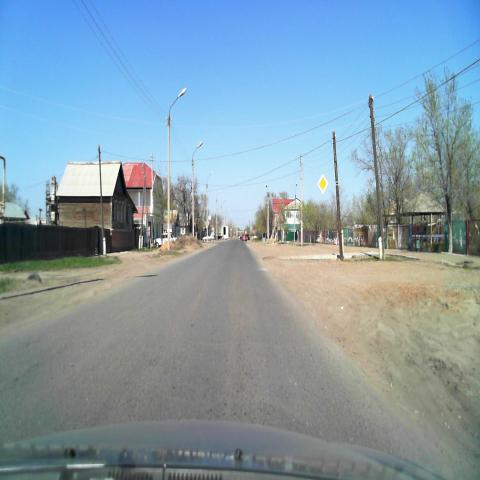2_1: (318, 174, 329, 196)
